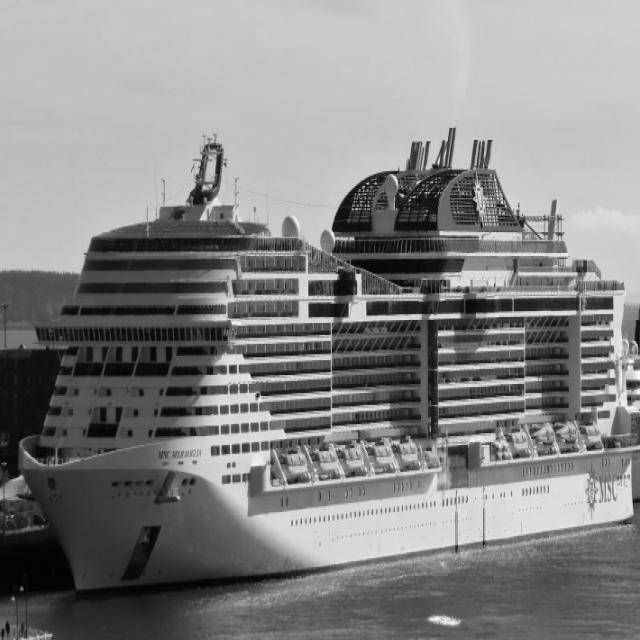cruises: (9, 122, 640, 604)
